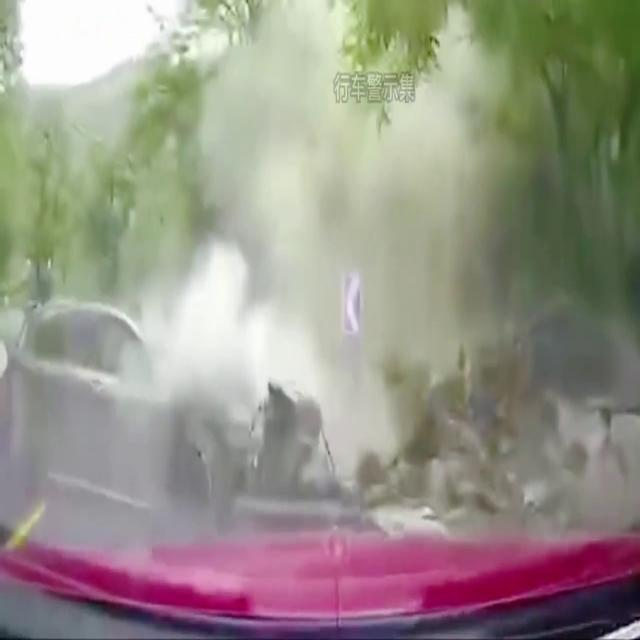multiple_accident: (0, 197, 592, 512)
